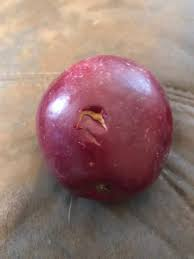damaged_apple: (34, 50, 178, 203)
